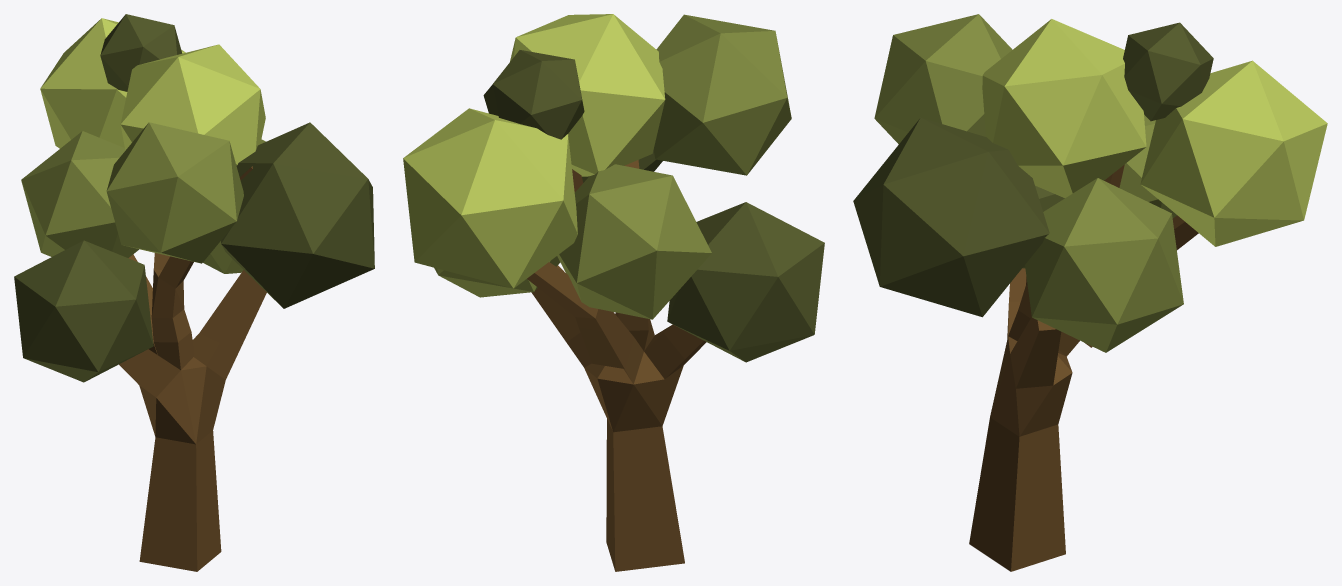
Rendered from Tree1.fbx.
3 renders of one model, left to right at view 1: azimuth 30°, elevation 25°; view 2: azimuth 150°, elevation 25°; view 3: azimuth 270°, elevation 25°, orthographic. The views are drawn at different scales.
Parts seen in each view (by area): view 1: Cube, Icosphere.006, Icosphere, Icosphere.003, Icosphere.005, Icosphere.001, Icosphere.004, Icosphere.007, Icosphere.002; view 2: Icosphere.004, Cube, Icosphere.003, Icosphere, Icosphere.001, Icosphere.005, Icosphere.007, Icosphere.002, Icosphere.006; view 3: Icosphere.006, Icosphere.004, Cube, Icosphere.005, Icosphere.002, Icosphere.003, Icosphere.007, Icosphere.001.
Part boxes in pixels (x1=…): Cube: x1=119, y1=166, x2=266, y2=571; Icosphere.006: x1=221, y1=122, x2=374, y2=308; Icosphere: x1=14, y1=240, x2=153, y2=382; Icosphere.003: x1=106, y1=122, x2=243, y2=263; Icosphere.005: x1=120, y1=44, x2=265, y2=165; Icosphere.001: x1=21, y1=131, x2=138, y2=257; Icosphere.004: x1=40, y1=18, x2=185, y2=148; Icosphere.007: x1=100, y1=14, x2=182, y2=91; Icosphere.002: x1=203, y1=139, x2=265, y2=273; Icosphere.004: x1=403, y1=108, x2=577, y2=288; Cube: x1=527, y1=160, x2=706, y2=571; Icosphere.003: x1=653, y1=14, x2=791, y2=175; Icosphere: x1=667, y1=202, x2=824, y2=362; Icosphere.001: x1=557, y1=164, x2=711, y2=319; Icosphere.005: x1=510, y1=14, x2=665, y2=176; Icosphere.007: x1=492, y1=50, x2=584, y2=139; Icosphere.002: x1=434, y1=256, x2=560, y2=297; Icosphere.006: x1=483, y1=84, x2=662, y2=182; Icosphere.006: x1=853, y1=117, x2=1049, y2=317; Icosphere.004: x1=1140, y1=60, x2=1327, y2=246; Cube: x1=969, y1=164, x2=1198, y2=571; Icosphere.005: x1=982, y1=19, x2=1146, y2=197; Icosphere.002: x1=1025, y1=178, x2=1183, y2=352; Icosphere.003: x1=874, y1=14, x2=1012, y2=144; Icosphere.007: x1=1123, y1=22, x2=1213, y2=121; Icosphere.001: x1=1119, y1=114, x2=1177, y2=218.
Size of the model in its own units: 473 by 685 by 546.
